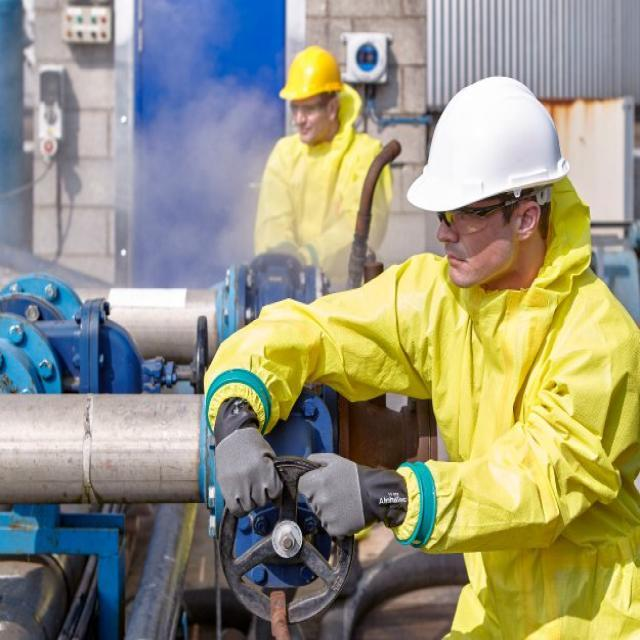gloved_hand: (296, 449, 410, 554), (209, 428, 286, 518)
